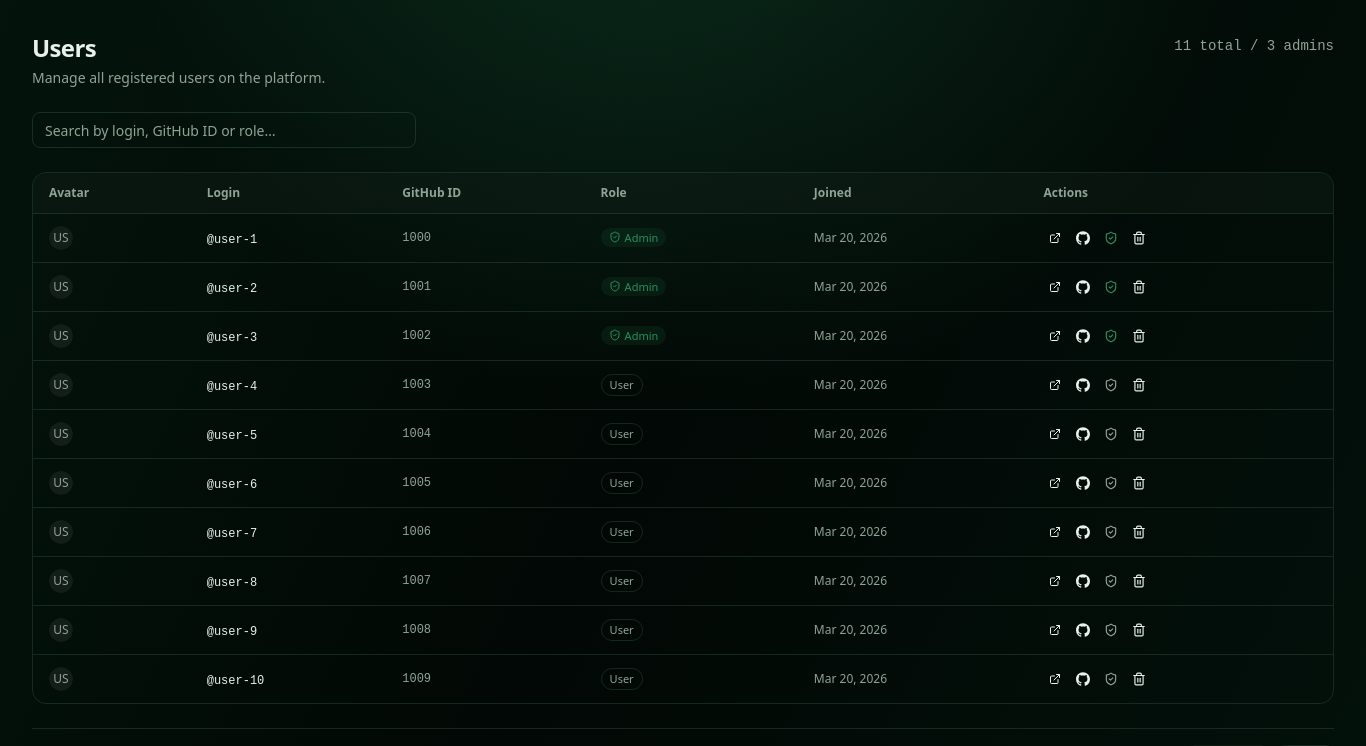
it: AdminUsersPage › renders user totals and filters by role
Expected: the text "11 total / 3 admins" is shown, [1174,36,1334,56]
Type "admin" into the field with placeholder "Search by login, GitHub ID or role…" at {"x": 224, "y": 130}, box [32,112,416,148]
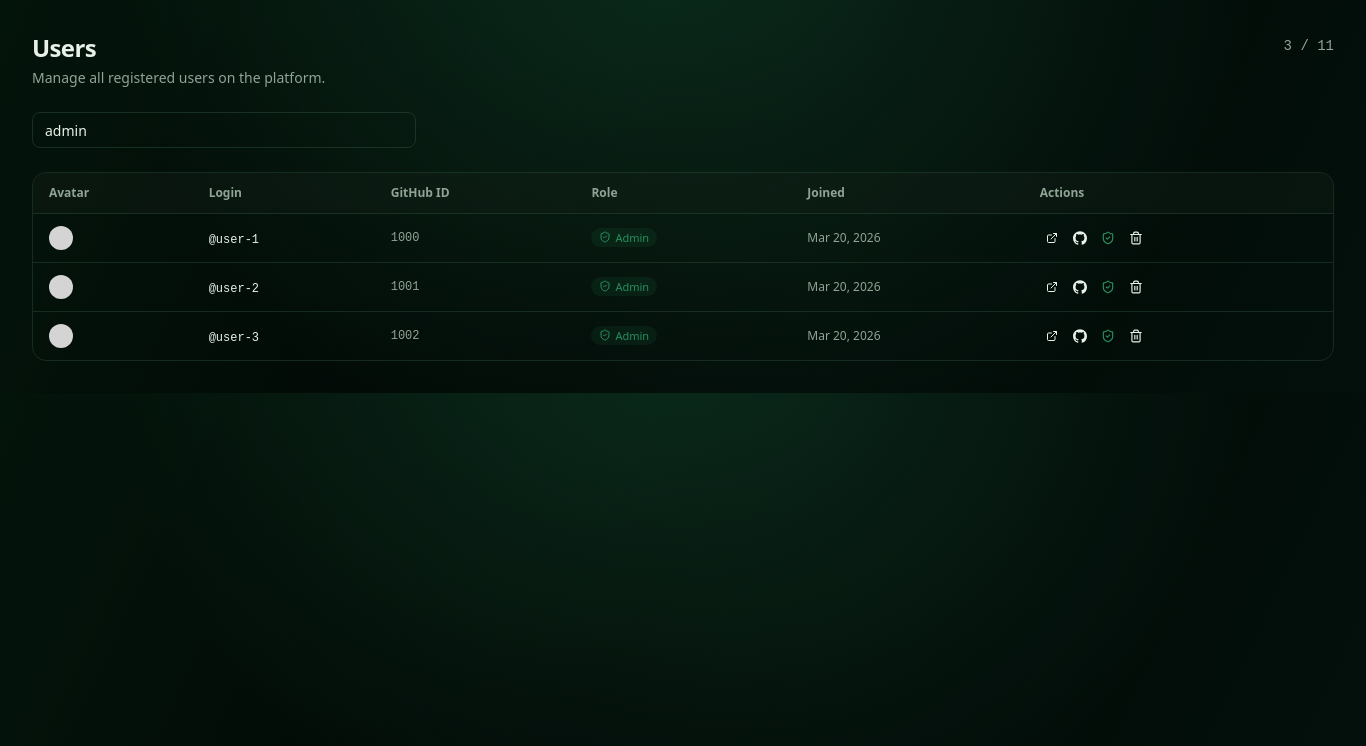
Expected: the link "@user-1" is shown, [209,233,259,247]
Expected: the text "3 / 11" is shown, [1284,36,1334,56]
